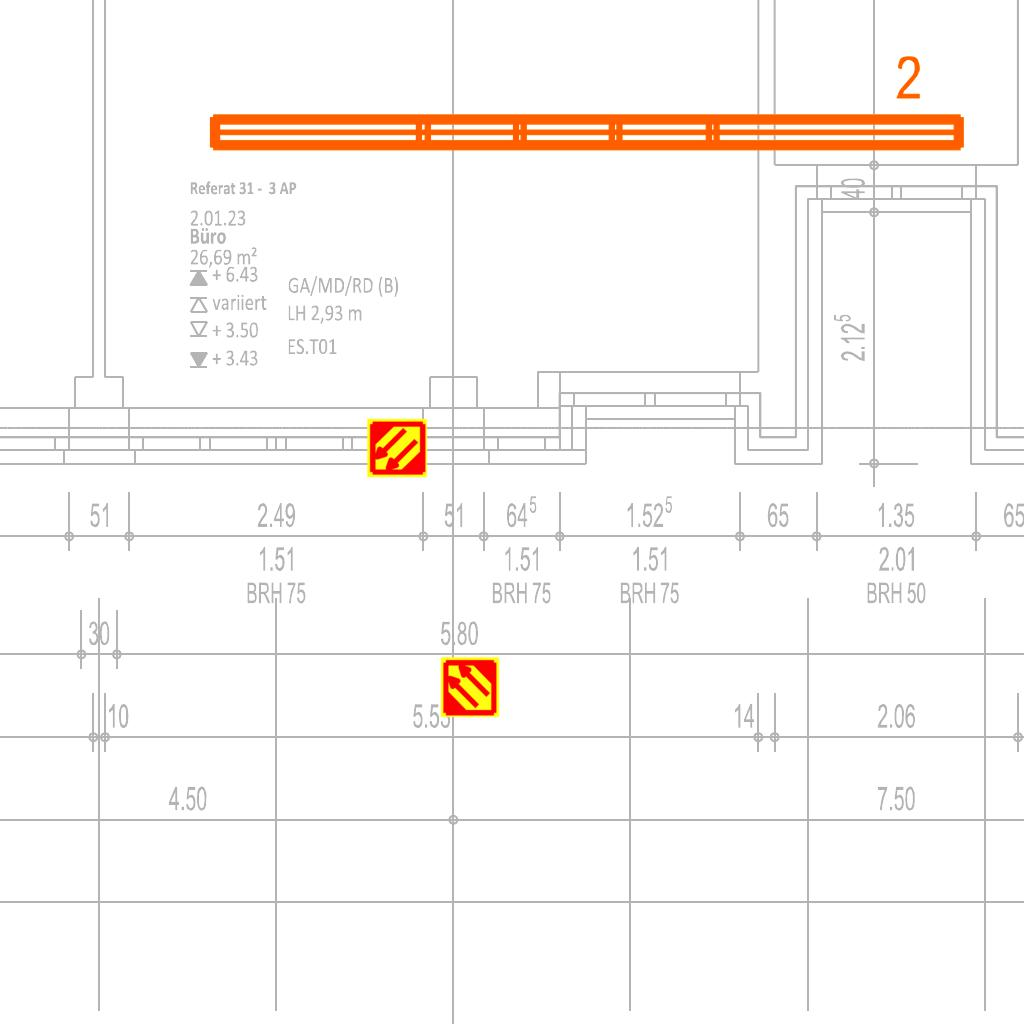ASR_Ansaugrauchmelder: (439, 656, 501, 718), (366, 417, 428, 479)
Ambulanz_Pendelleuchte_LED: (199, 51, 973, 163)
